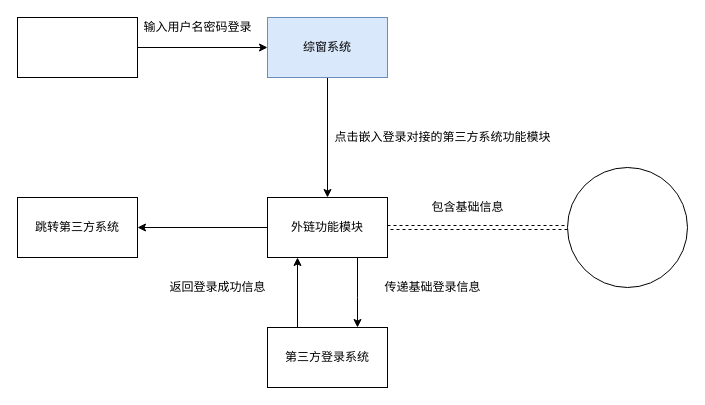
This 705x405 diagram has some shape labels left out. Each missing label, with the centre of its shape:
"用户名 密码 所属部门 公钥AES对称加密" goes at point (627, 227).
"用户登录" goes at point (77, 47).
